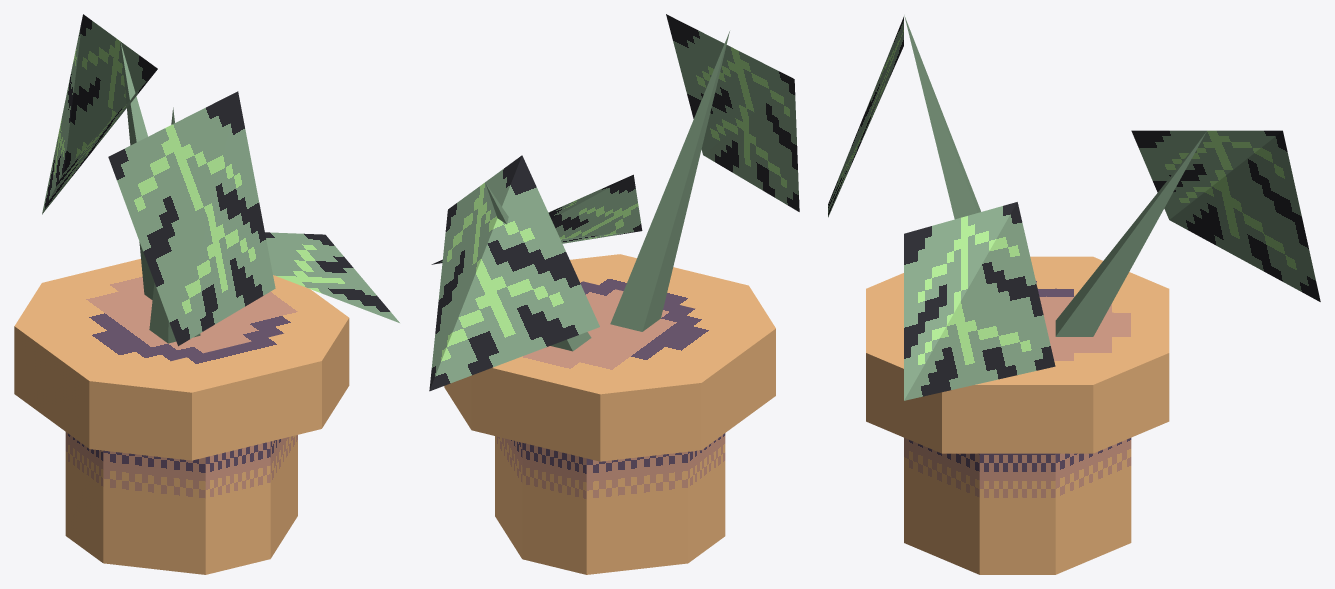
File: Plante.gltf
3 renders of one model, left to right at view 1: azimuth 30°, elevation 25°; view 2: azimuth 150°, elevation 25°; view 3: azimuth 270°, elevation 25°, orthographic.
Bounding box in the file's own units: 2.25 × 3.5 × 3.25.
1 material, 1 textured.
